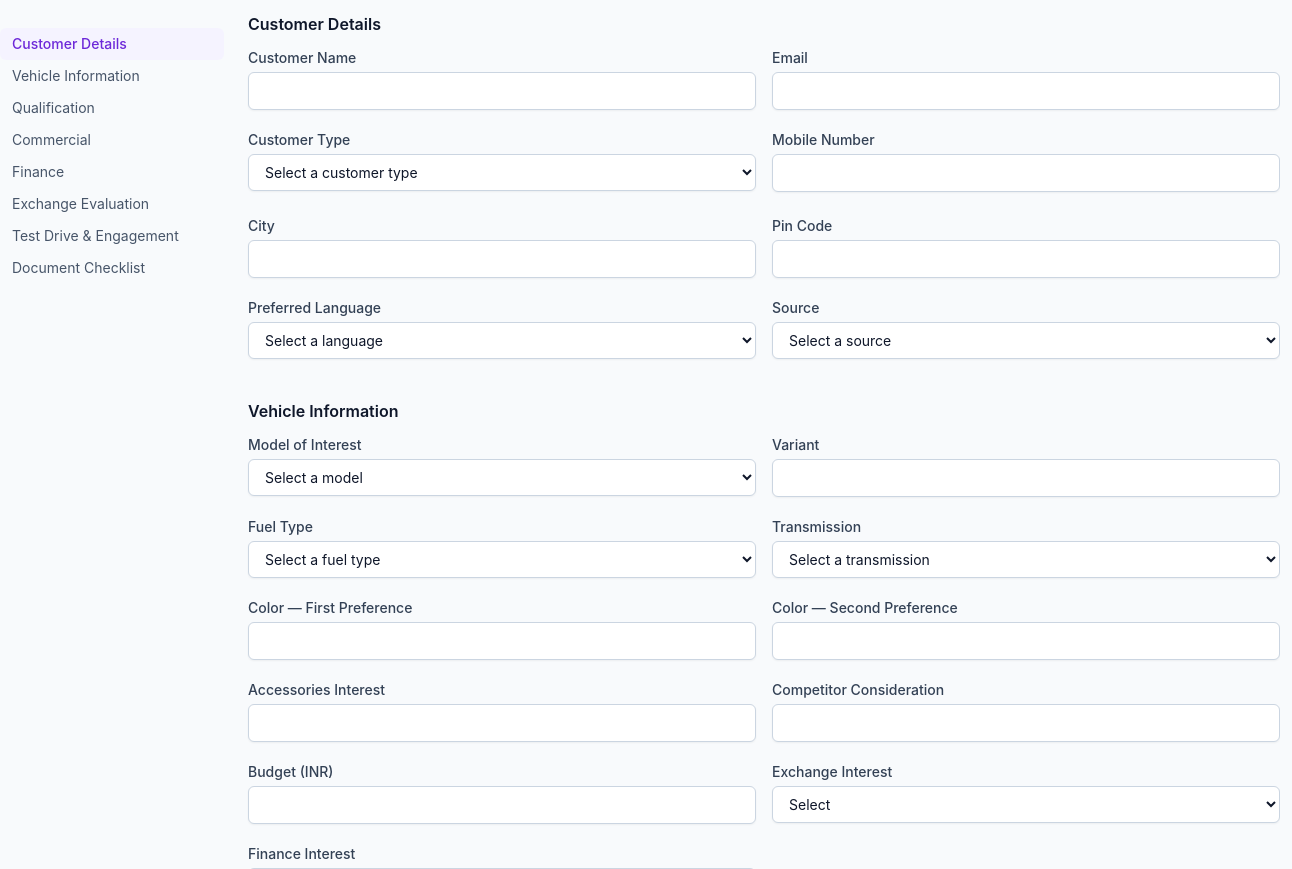
NewEnquiryForm (issue #134 sectioned rewrite) › duplicate-mobile warning (issue #29) › AC3: "Cancel" dismisses the warning without submitting
Type "9876543210" into the field labelled "Mobile Number" at [1026, 173], box [772,154,1280,192]
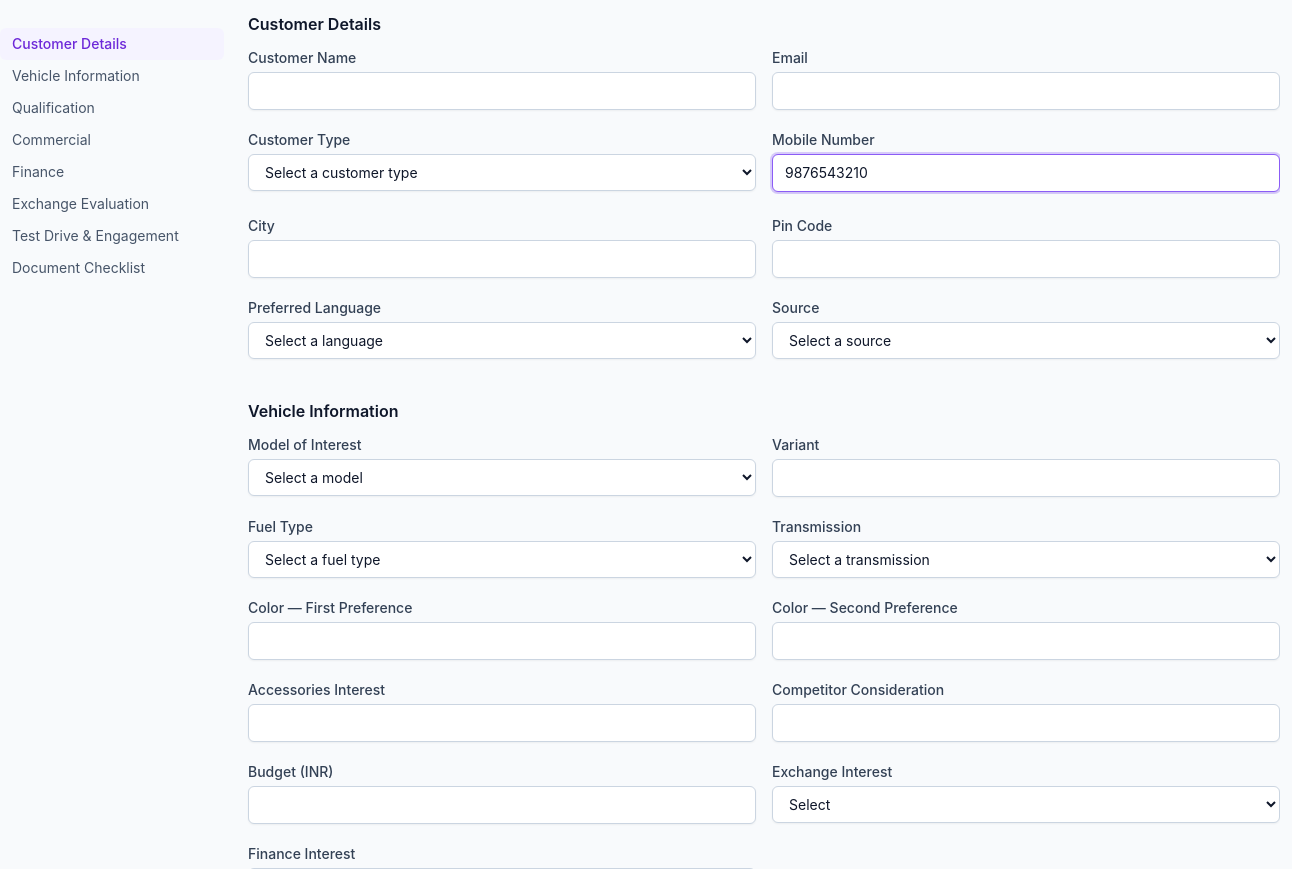
Press Tab
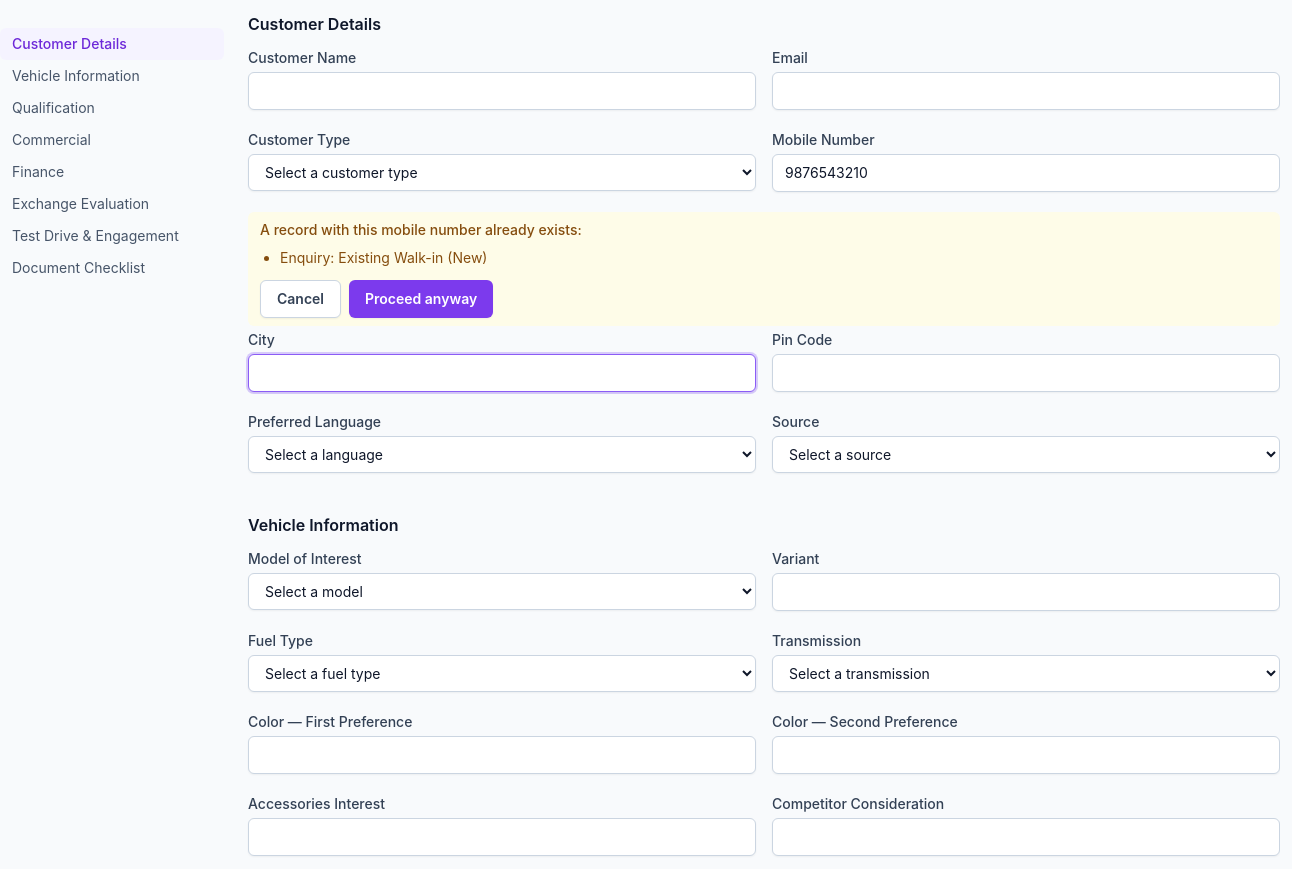
Expected: the message with test id "duplicate-warning" is shown, [248,212,1280,326]
Click the button "Cancel" at [300, 299], box [260,280,341,318]
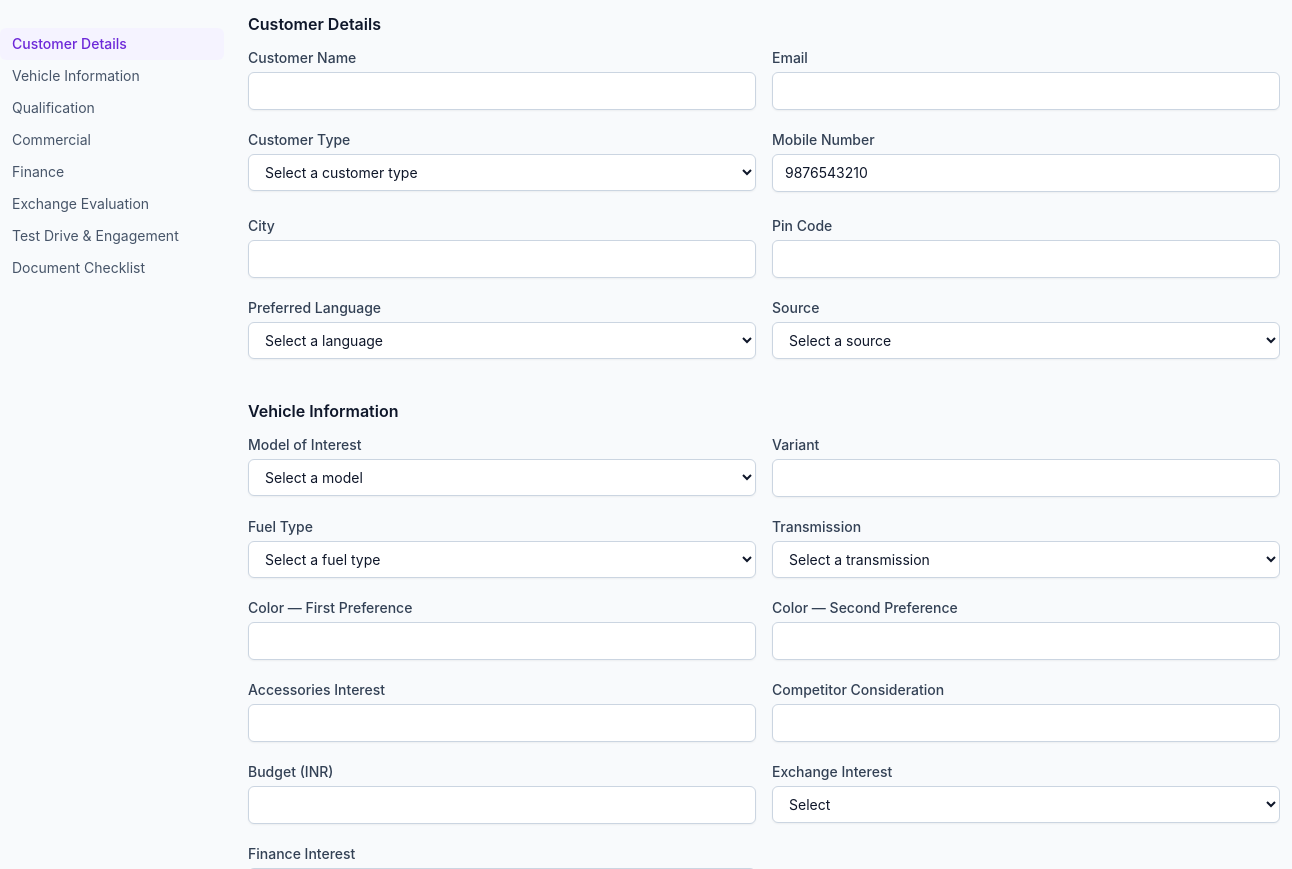
Expected: the message with test id "duplicate-warning" is gone
